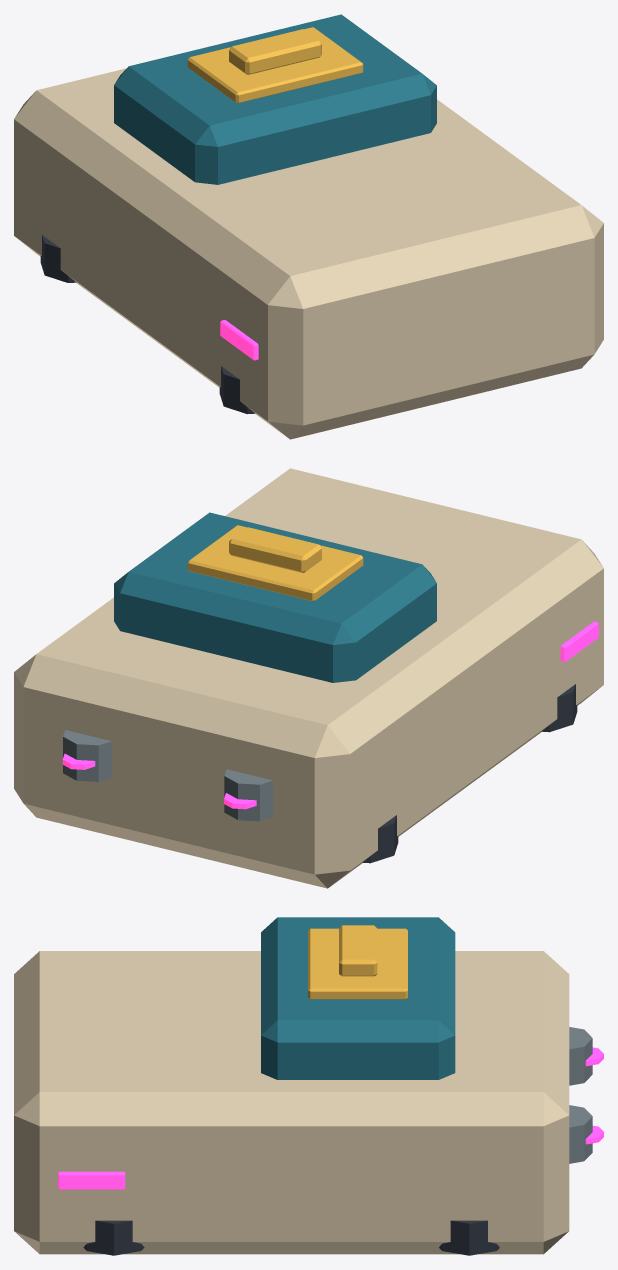
The model's file is vehicles_025_seed11.glb.
The picture shows the model from 3 angles, top to bottom: view 1: azimuth 30°, elevation 25°; view 2: azimuth 150°, elevation 25°; view 3: azimuth 270°, elevation 25°; orthographic projection.
Parts seen in each view (by area): view 1: vehicles_025_seed11; view 2: vehicles_025_seed11; view 3: vehicles_025_seed11.
Part boxes in pixels (x1,y1,x2,y2): vehicles_025_seed11: [14, 14, 603, 439]; vehicles_025_seed11: [14, 468, 603, 888]; vehicles_025_seed11: [14, 917, 603, 1255].
Bounding box in the file's own units: 2.49 × 1.66 × 3.67.
